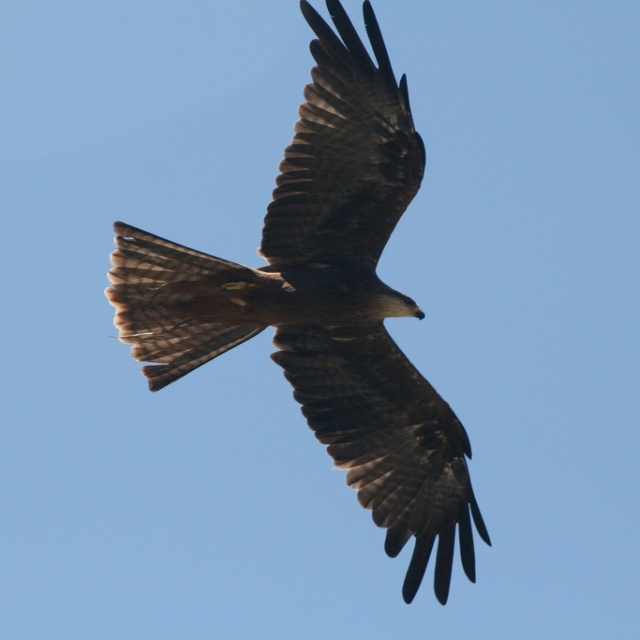Eagle: (102, 0, 492, 606)
